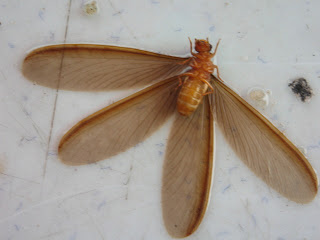flying termite: (15, 19, 319, 240)
